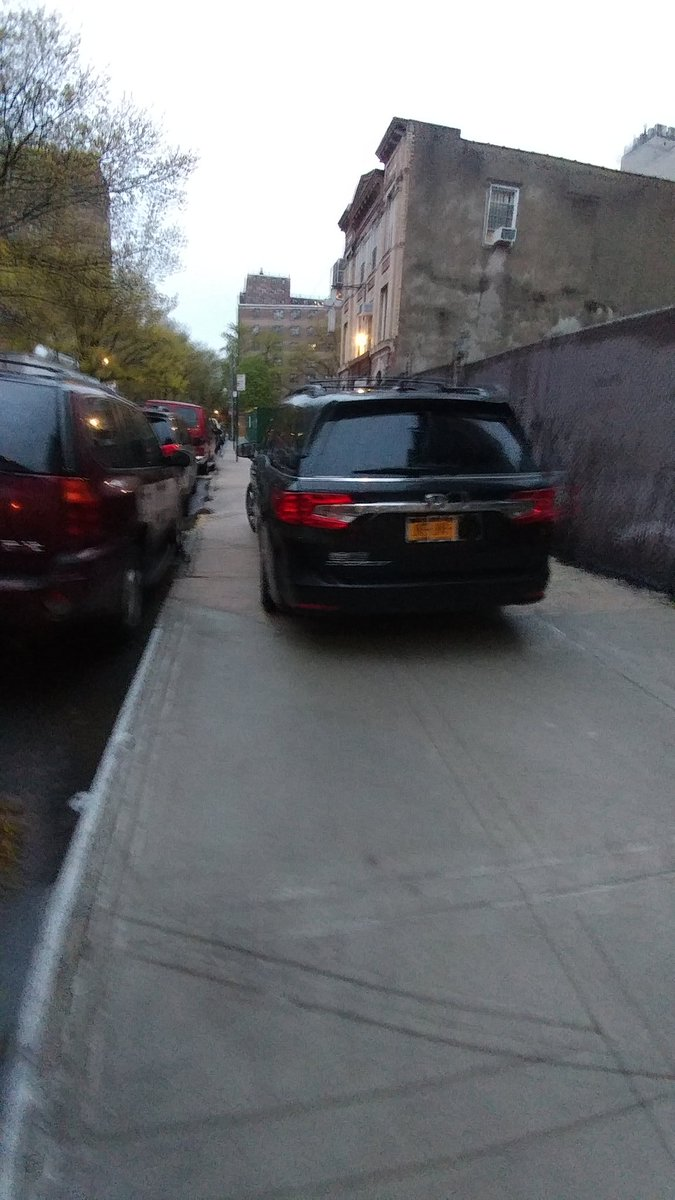building: (334, 155, 675, 457)
car: (240, 370, 569, 629), (1, 375, 178, 627)
sidewalk: (32, 497, 675, 1194)
sky: (141, 1, 675, 283)
